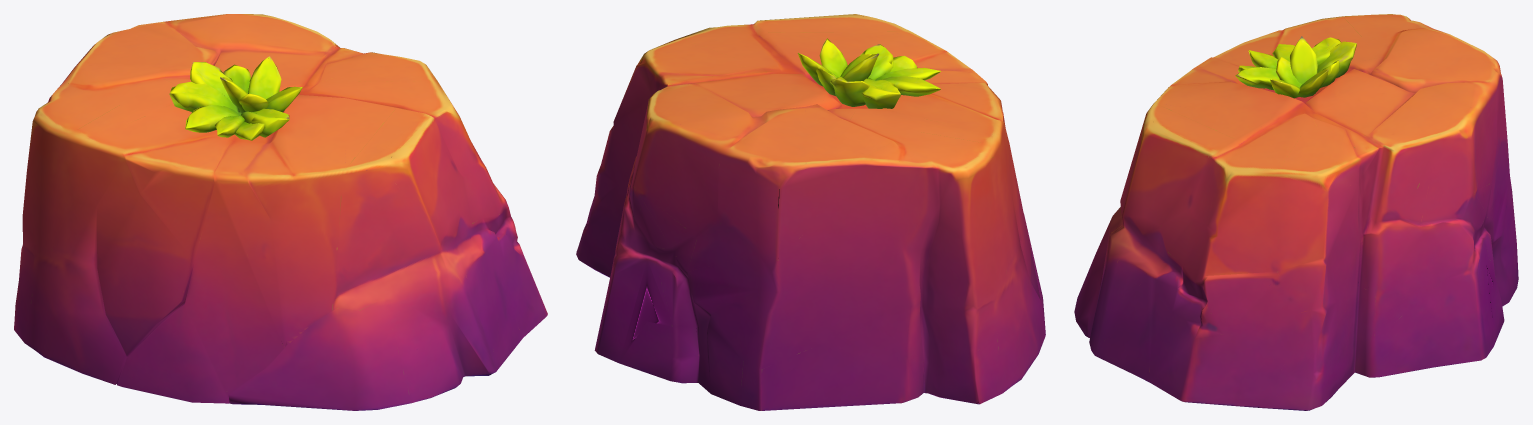
The model's file is Mountain_Asset_5.glb.
3 views of the same model, side by side, from view 1: azimuth 30°, elevation 25°; view 2: azimuth 150°, elevation 25°; view 3: azimuth 270°, elevation 25° (orthographic). The views are drawn at different scales.
Parts seen in each view (by area): view 1: geometry_0; view 2: geometry_0; view 3: geometry_0.
Part boxes in pixels (x1,y1,x2,y2): geometry_0: (14, 14, 547, 410); geometry_0: (576, 14, 1045, 410); geometry_0: (1074, 14, 1518, 410).
Bounding box in the file's own units: 0.9512 × 0.5308 × 0.8745.
Materials: 1 (1 with a texture image).
